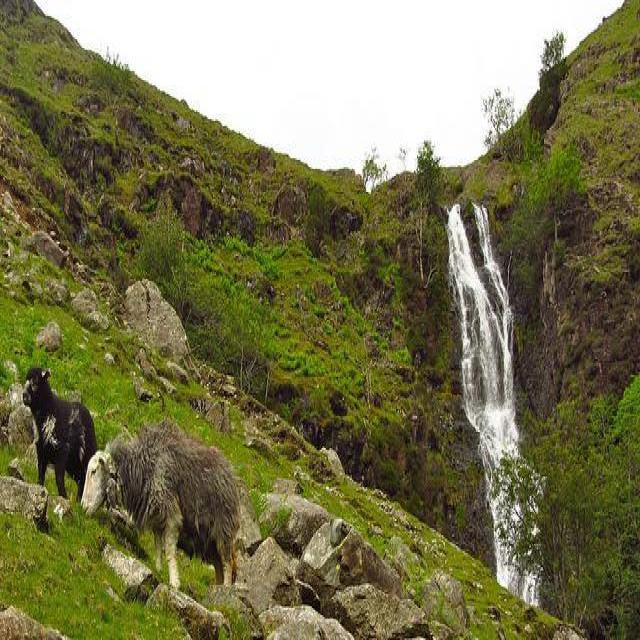Sheep: (81, 418, 241, 597), (23, 368, 99, 503)
